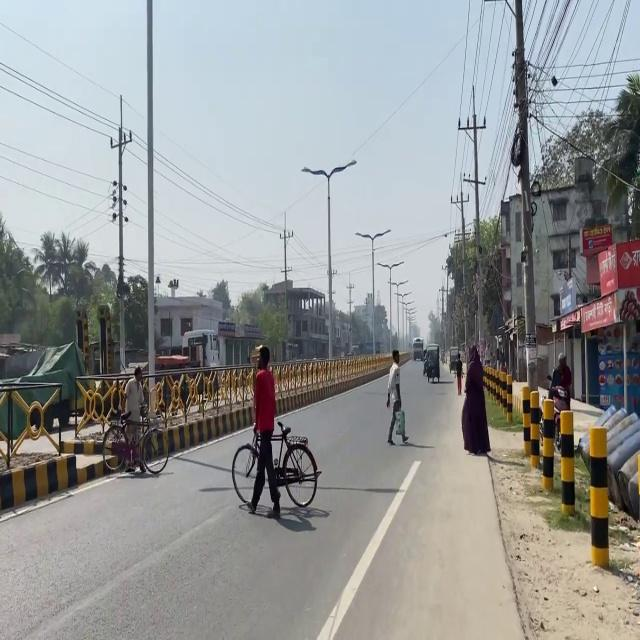Bench: (512, 394, 626, 576)
Construction-barrier: (485, 451, 535, 638), (0, 450, 116, 511), (482, 364, 604, 419)
Garbage-bin: (248, 344, 281, 517), (461, 345, 490, 455), (121, 366, 148, 472), (547, 352, 572, 450), (385, 349, 408, 445)
